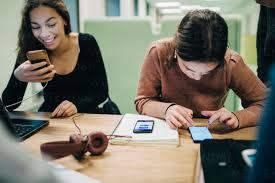phone: (135, 8, 260, 143), (0, 0, 107, 116)
